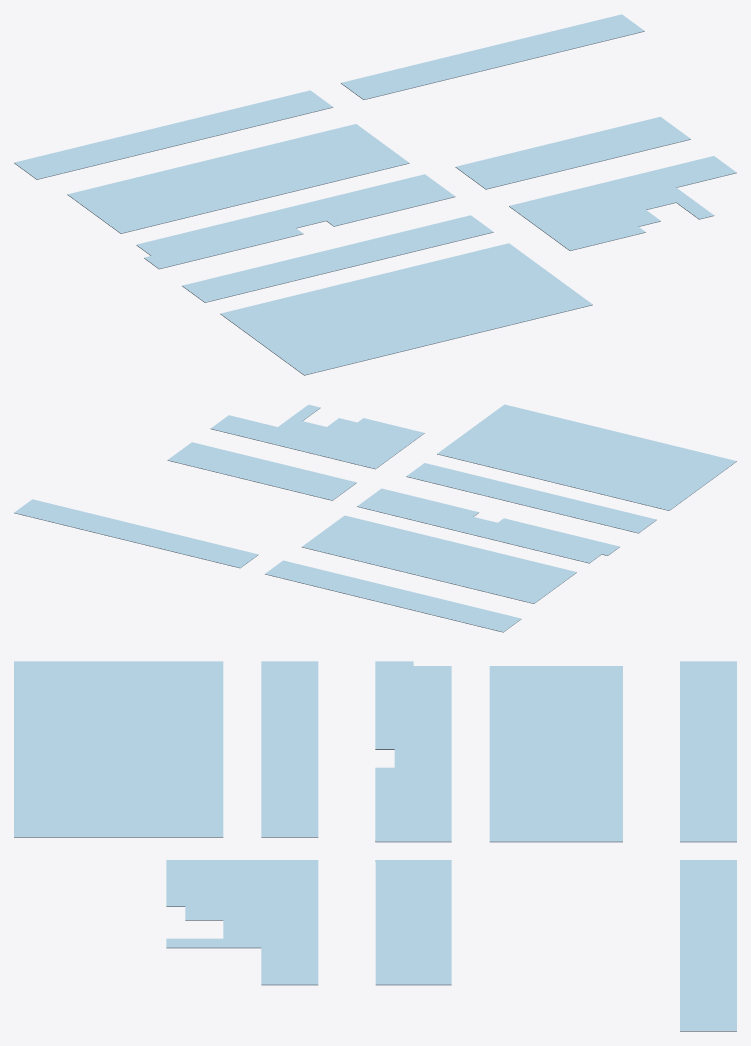
The model's file is SM_MPRR_SolarBank_02_0_LOD2.fbx.
3 renders of one model, top to bottom at view 1: azimuth 30°, elevation 25°; view 2: azimuth 150°, elevation 25°; view 3: azimuth 270°, elevation 25°, orthographic. The views are drawn at different scales.
Parts seen in each view (by area): view 1: SM_MPRR_SolarBank_02_0_LOD2; view 2: SM_MPRR_SolarBank_02_0_LOD2; view 3: SM_MPRR_SolarBank_02_0_LOD2.
Part boxes in pixels (bbox=[...]): SM_MPRR_SolarBank_02_0_LOD2: bbox=[14, 14, 736, 375]; SM_MPRR_SolarBank_02_0_LOD2: bbox=[14, 404, 736, 632]; SM_MPRR_SolarBank_02_0_LOD2: bbox=[14, 661, 736, 1031].
Bounding box in the file's own units: 8960 × 7410 × 8.
